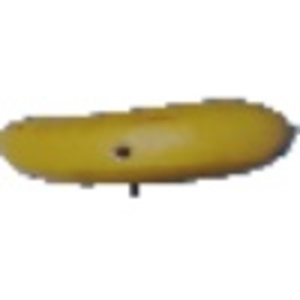banana: (2, 92, 298, 193)
